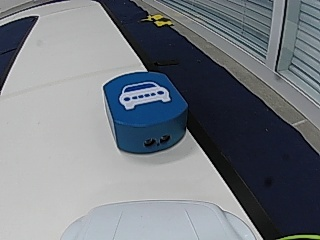safety: (118, 81, 171, 109)
